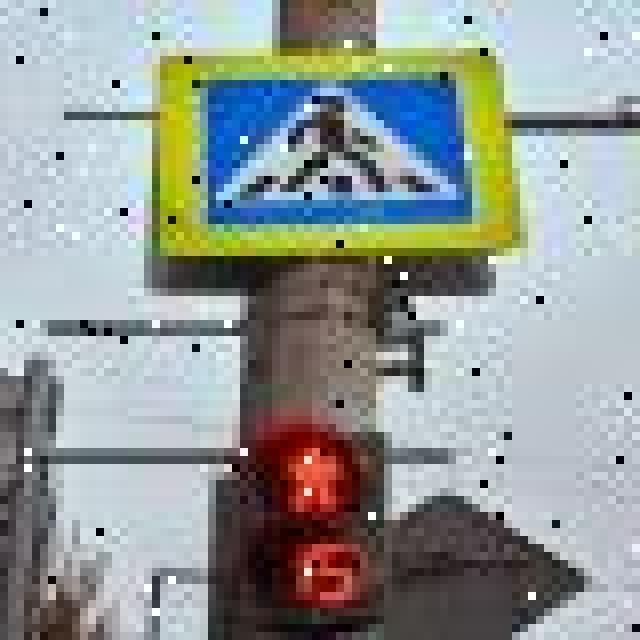redlight: (232, 428, 396, 632)
